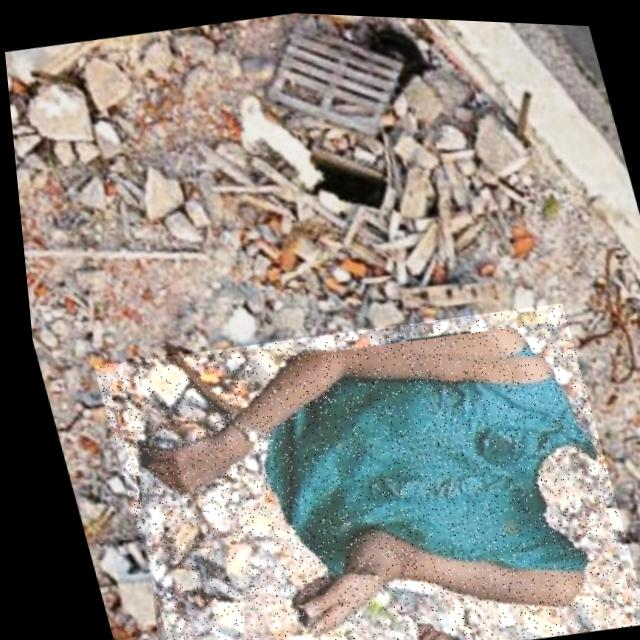Person in Rubble: (78, 281, 638, 640)
